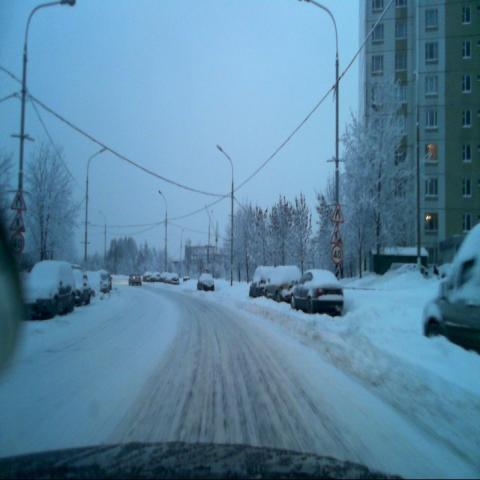1_20: (8, 188, 26, 212), (331, 200, 345, 224)
1_25: (330, 223, 344, 245)
